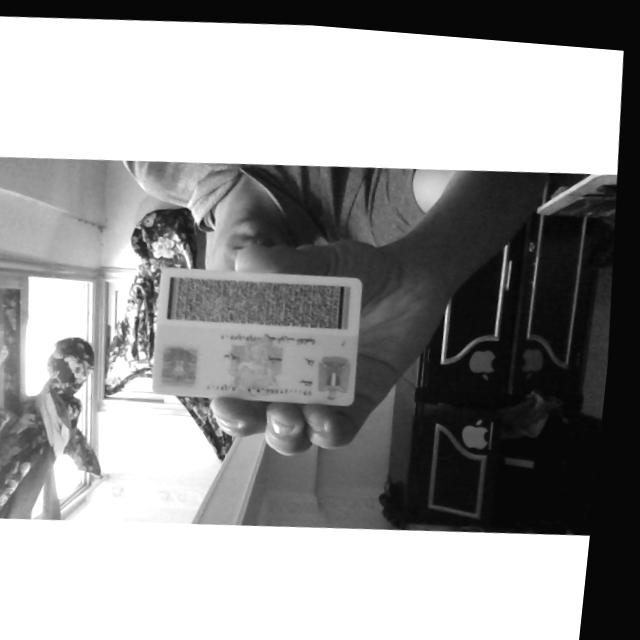back: (144, 268, 361, 406)
